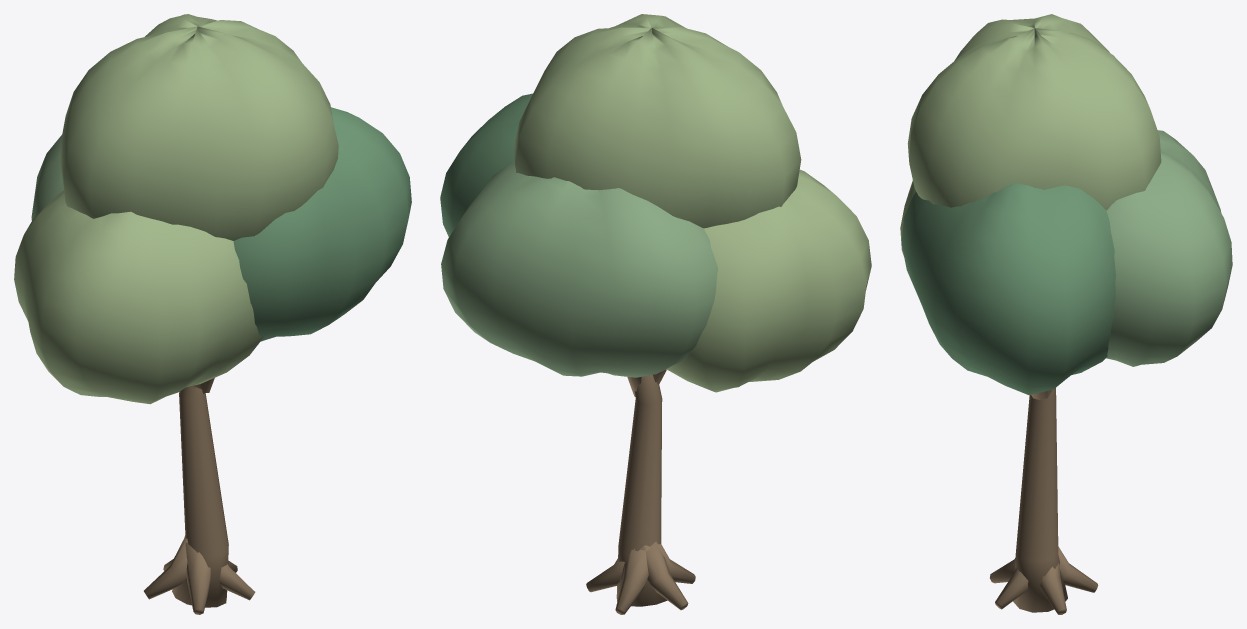
The model's file is SM_Broadleaf_02_UV_0042.fbx.
3 renders of one model, left to right at view 1: azimuth 30°, elevation 25°; view 2: azimuth 150°, elevation 25°; view 3: azimuth 270°, elevation 25°, orthographic.
Parts seen in each view (by area): view 1: SM_Broadleaf_02_UV_0042; view 2: SM_Broadleaf_02_UV_0042; view 3: SM_Broadleaf_02_UV_0042.
Boxes of the visible parts, x1,y1,x2,y2 form: SM_Broadleaf_02_UV_0042: [14, 14, 411, 614]; SM_Broadleaf_02_UV_0042: [440, 14, 871, 614]; SM_Broadleaf_02_UV_0042: [900, 14, 1232, 614].
Bounding box in the file's own units: 854 × 641 × 1215.
